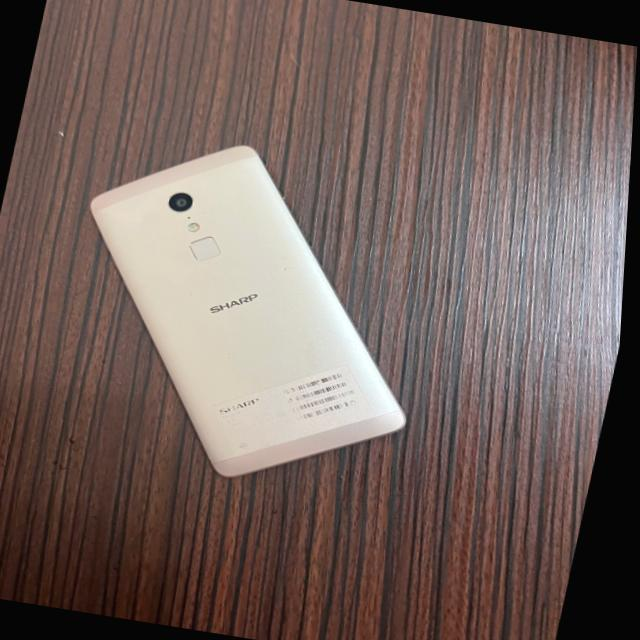Smartphone: (61, 125, 443, 494)
